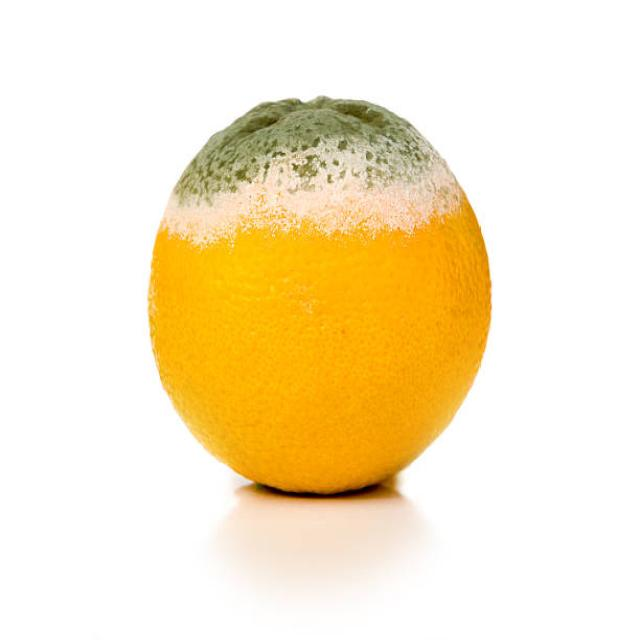Rotten: (147, 94, 490, 494)
